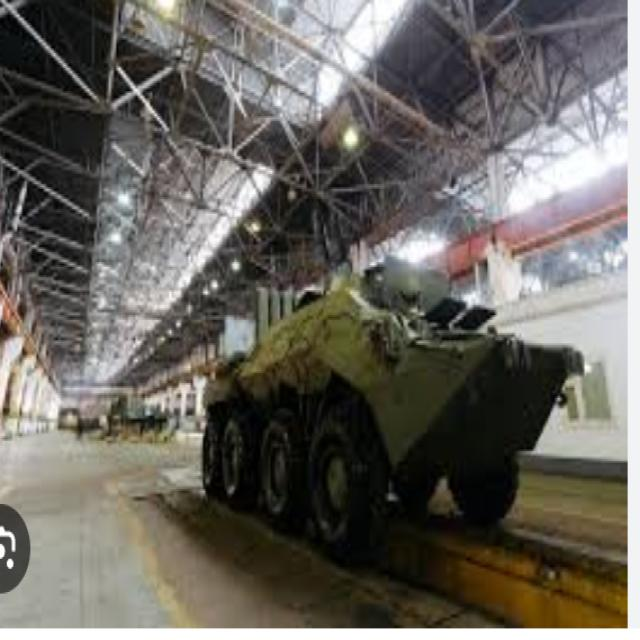MIL_APC: (190, 280, 593, 572)
